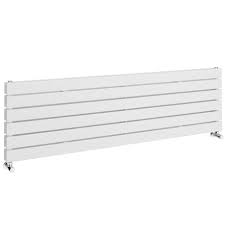Radiator: (2, 63, 224, 173)
